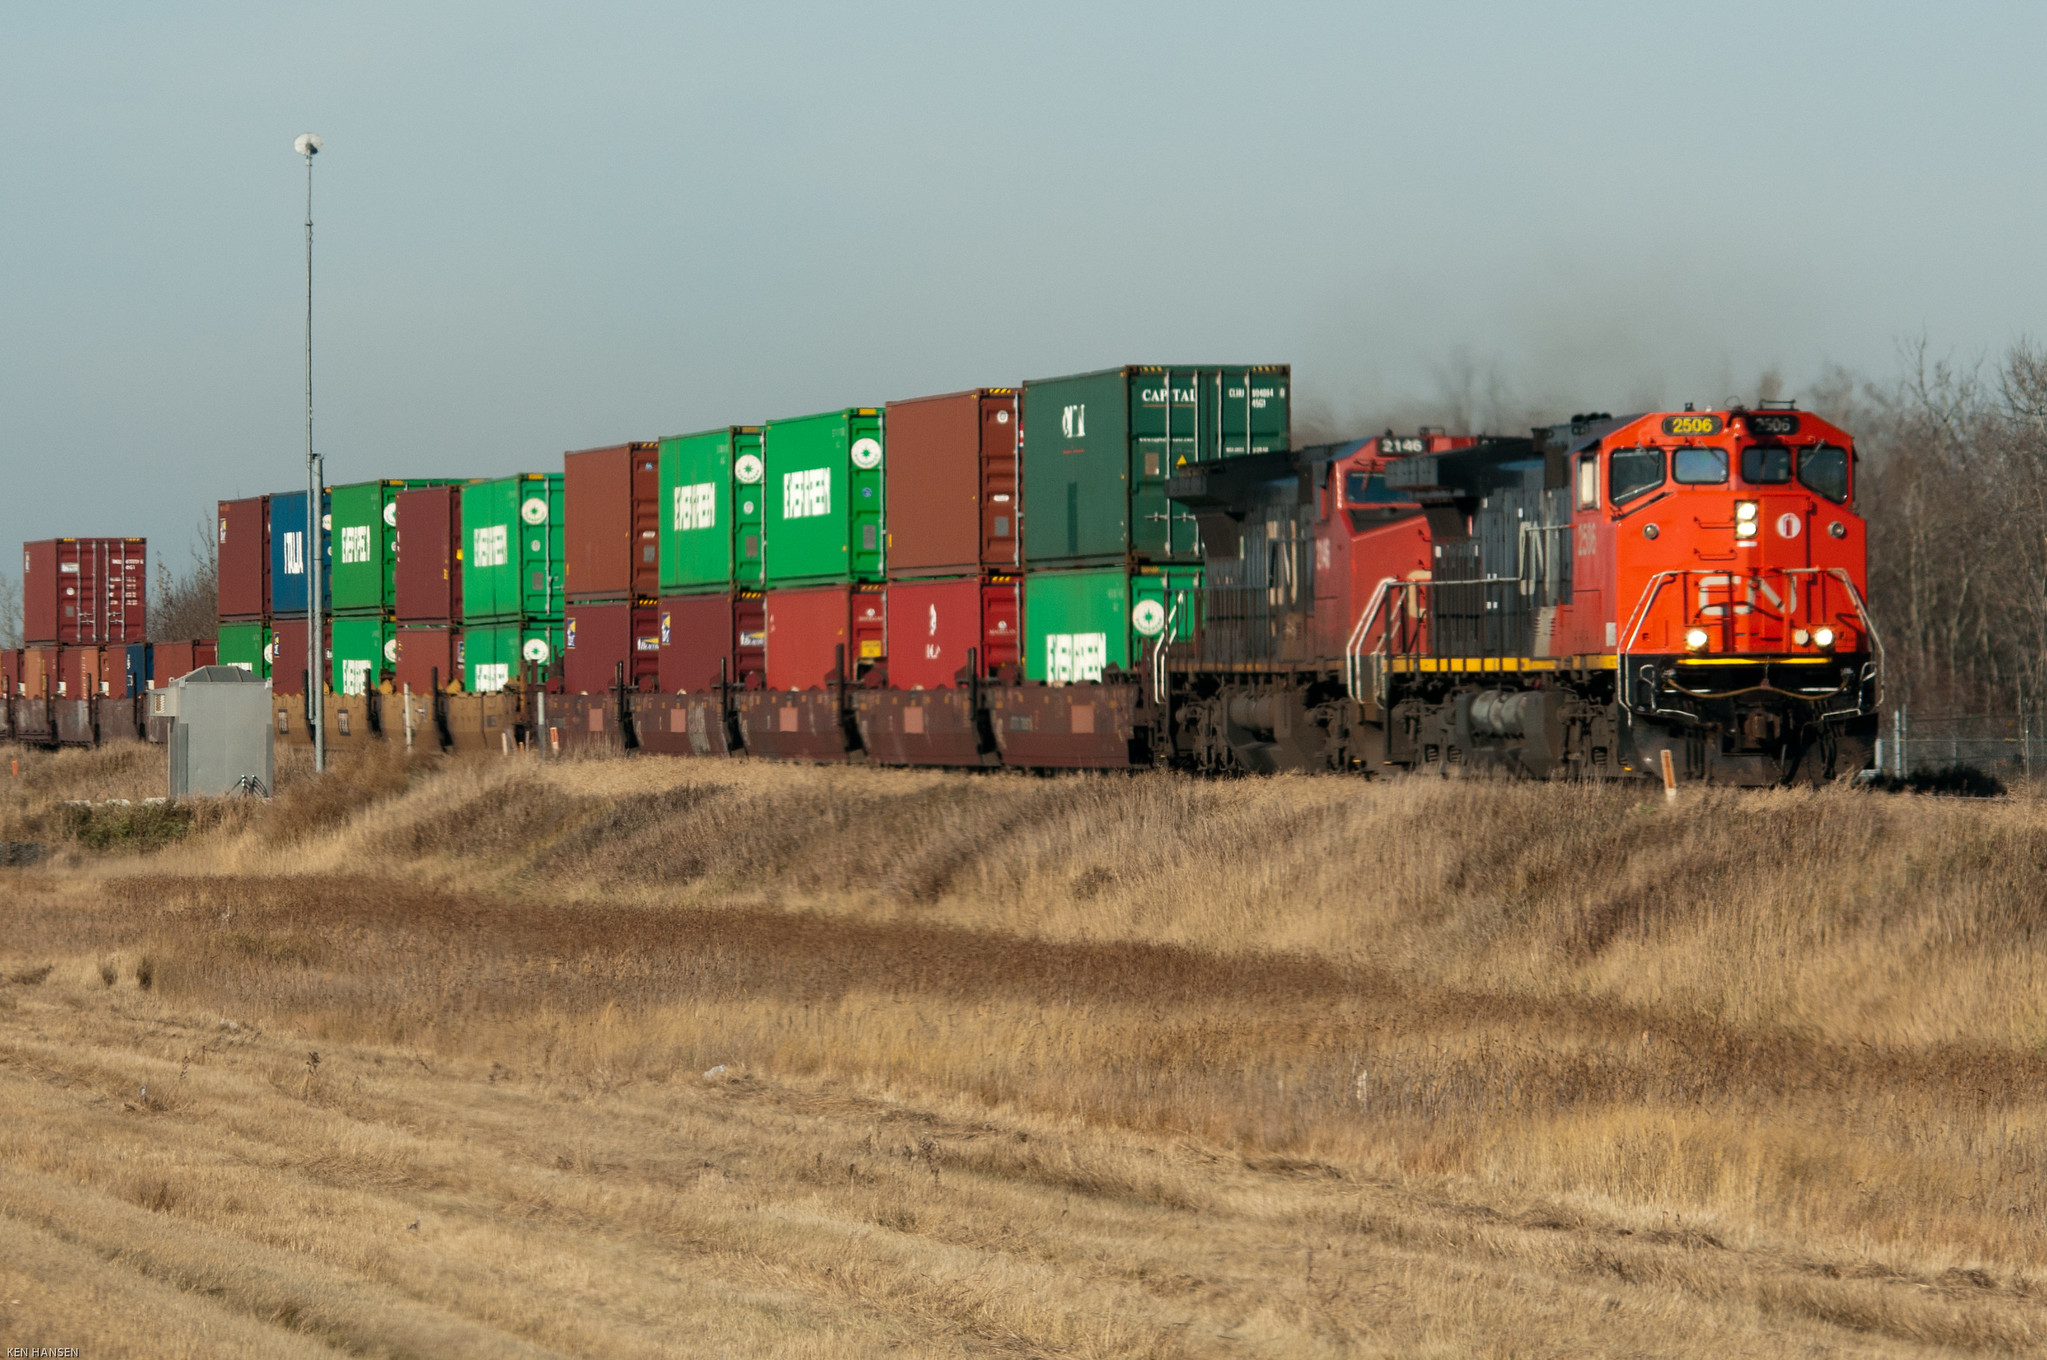train: (2, 367, 1891, 785)
